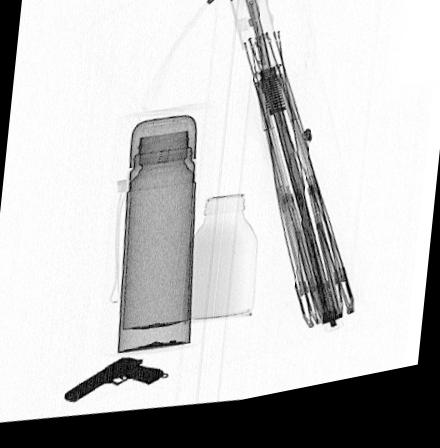Gun: (65, 359, 164, 404)
